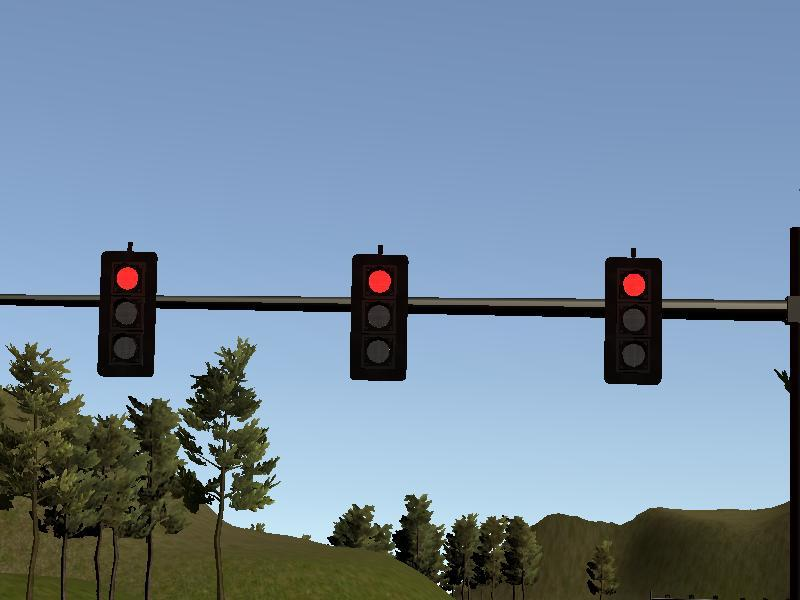Red: (606, 258, 660, 386), (350, 258, 406, 379), (102, 253, 153, 375)
